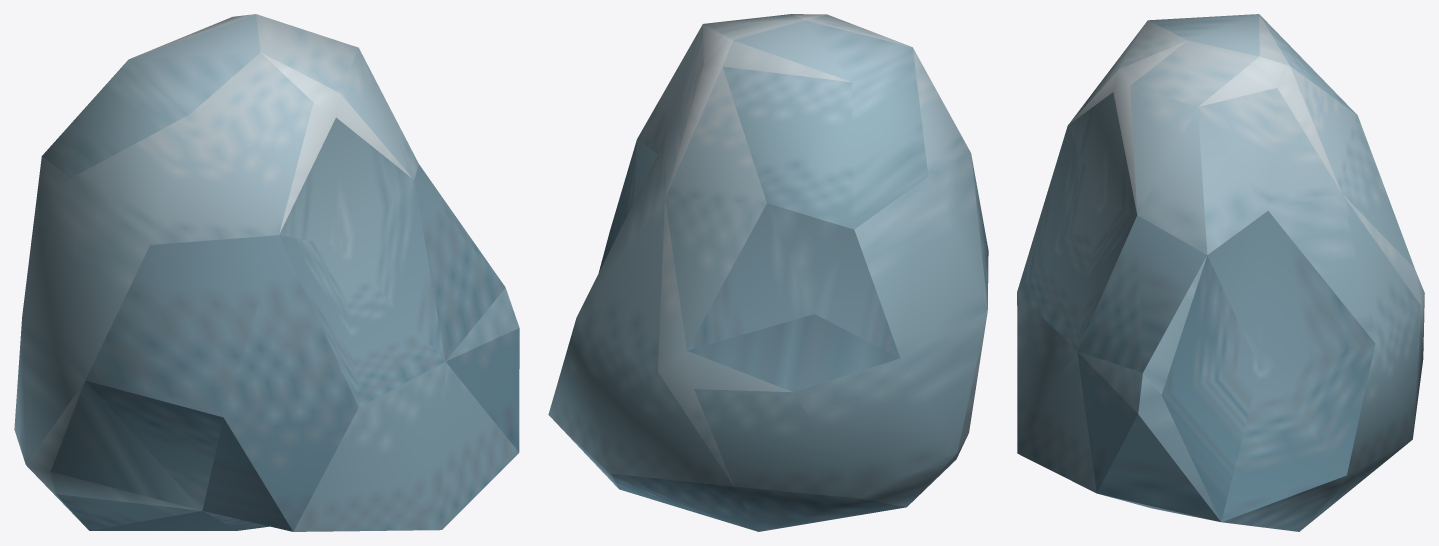
Rendered from Silver_Nugget_Large.gltf.
The picture shows the model from 3 angles, left to right: view 1: azimuth 30°, elevation 25°; view 2: azimuth 150°, elevation 25°; view 3: azimuth 270°, elevation 25°; orthographic projection. The views are drawn at different scales.
Visible parts, largest first — view 1: Silver_Nugget_Large; view 2: Silver_Nugget_Large; view 3: Silver_Nugget_Large.
Boxes of the visible parts, bbox=[...] form: Silver_Nugget_Large: bbox=[14, 14, 519, 531]; Silver_Nugget_Large: bbox=[548, 14, 988, 531]; Silver_Nugget_Large: bbox=[1017, 14, 1424, 531].
Size of the model in its own units: 0.4271 by 0.4656 by 0.3947.
1 material, 1 textured.
